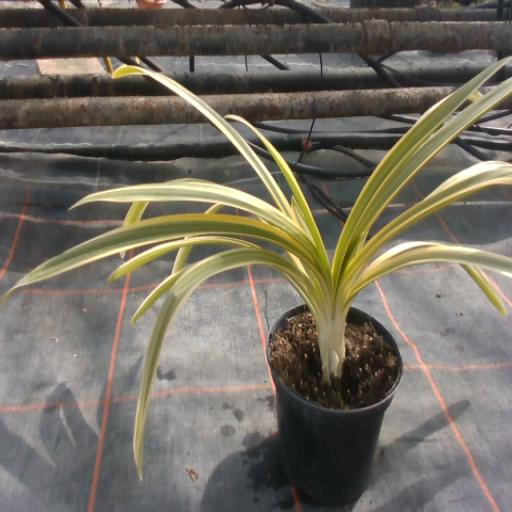Agapanthus-praecox: (134, 249, 305, 478), (334, 61, 504, 284), (344, 78, 511, 265), (3, 214, 315, 299), (113, 66, 290, 214), (228, 115, 329, 266), (368, 162, 511, 246), (74, 180, 290, 224), (358, 245, 511, 287), (134, 271, 183, 321), (458, 263, 505, 314), (370, 242, 439, 266), (171, 245, 191, 274), (124, 202, 148, 225), (206, 206, 220, 213), (121, 251, 125, 257)
